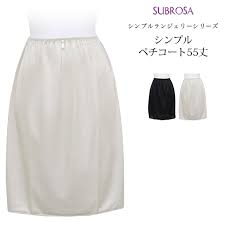C_skirt: (7, 31, 136, 223)
